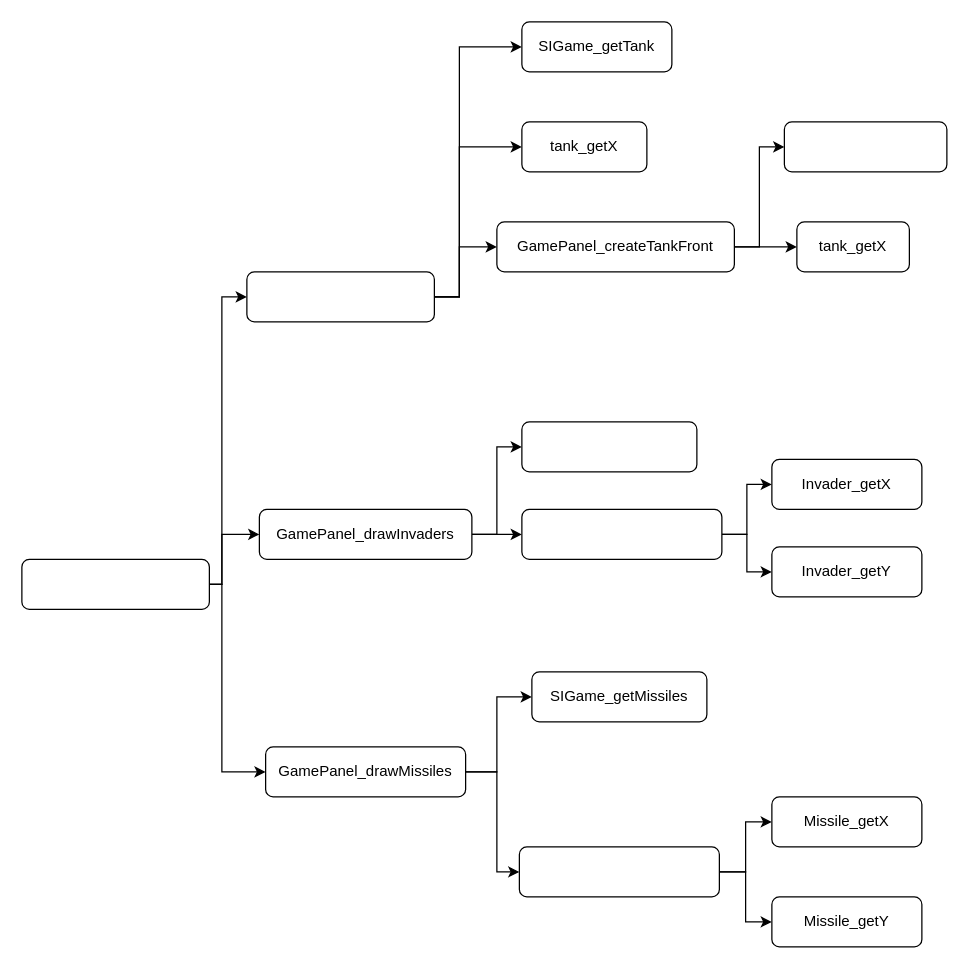
Some shapes in this 969 by 969 pixel diagram are drawn without their labels. The shapes that lost their labels are listed below. From the top down, each one's centre as x and y in pixels, then its label:
the point at 865,146: tank_isFacingRight
the point at 340,296: GamePanel_drawTank
the point at 609,446: SIGame_getInvaders
the point at 621,533: GamePanel_drawInvader
the point at 115,583: GamePanel_drawGame
the point at 618,871: GamePanel_drawMissile
